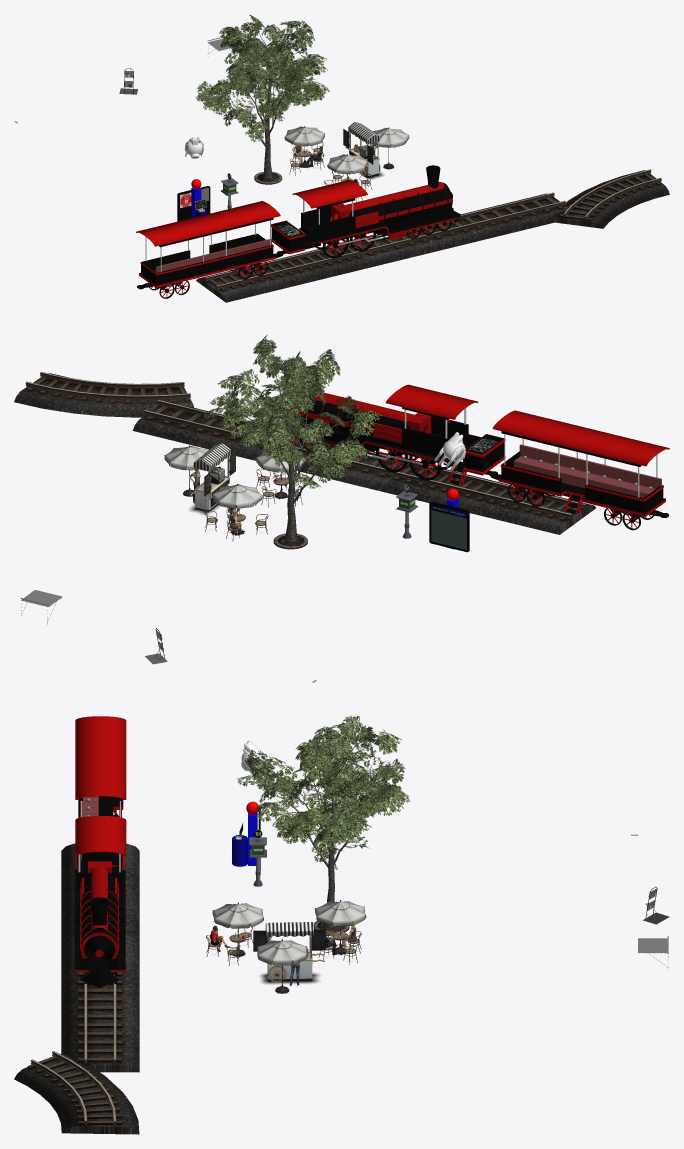
The picture shows the model from 3 angles, top to bottom: view 1: azimuth 30°, elevation 25°; view 2: azimuth 150°, elevation 25°; view 3: azimuth 270°, elevation 25°; orthographic projection. The views are drawn at different scales.
Parts seen in each view (by area): view 1: Train Engine v1.2, CP Young Oak Tree 3, Train Passenger Car v1.2, TRACKSTRAIGHT16 Rail, TRACKSTRAIGHT32 Rail, Train TRACKCURVE 01 prim, Apple Fall Cafe Chair (×3), Young Oak Tree 3 Animated; view 2: CP Young Oak Tree 3, Train Passenger Car v1.2, Train Engine v1.2, TRACKSTRAIGHT32 Rail, TRACKSTRAIGHT16 Rail, Train TRACKCURVE 01 prim, Apple Fall Cafe Chair (×2), Young Oak Tree 3 Animated, COFFEE CART-MESH (×2), Visitor Board 5.0 frame linked; view 3: CP Young Oak Tree 3, Train Engine v1.2, TRACKSTRAIGHT16 Rail, Train TRACKCURVE 01 prim, Train Passenger Car v1.2, Apple Fall Cafe Chair (×3), TRACKSTRAIGHT32 Rail, COFFEE CART-MESH (×2), Young Oak Tree 3 Animated.
Part boxes in pixels (x1,y1,x2,y2): Train Engine v1.2: (271,165,461,258); CP Young Oak Tree 3: (195,15,329,142); Train Passenger Car v1.2: (136,201,282,298); TRACKSTRAIGHT16 Rail: (350,192,568,267); TRACKSTRAIGHT32 Rail: (196,243,370,302); Train TRACKCURVE 01 prim: (551,169,669,228); Apple Fall Cafe Chair (×3): (284,126,409,174); Young Oak Tree 3 Animated: (225,29,312,178); CP Young Oak Tree 3: (203,334,382,492); Train Passenger Car v1.2: (490,410,669,530); Train Engine v1.2: (286,366,505,485); TRACKSTRAIGHT32 Rail: (382,462,595,534); TRACKSTRAIGHT16 Rail: (133,400,407,491); Train TRACKCURVE 01 prim: (14,372,194,417); Apple Fall Cafe Chair (×2): (164,445,262,508); Young Oak Tree 3 Animated: (230,356,357,542); COFFEE CART-MESH (×2): (193,443,230,509); Visitor Board 5.0 frame linked: (431,510,466,549); CP Young Oak Tree 3: (237,716,410,869); Train Engine v1.2: (74,815,126,987); TRACKSTRAIGHT16 Rail: (61,936,139,1072); Train TRACKCURVE 01 prim: (14,1051,139,1134); Train Passenger Car v1.2: (75,716,126,817); Apple Fall Cafe Chair (×3): (212,901,366,965); TRACKSTRAIGHT32 Rail: (61,843,139,942); COFFEE CART-MESH (×2): (265,922,313,979); Young Oak Tree 3 Animated: (256,733,386,927).
Size of what is drawn, in the model's own units: 41.41 by 13.09 by 34.79.
131 materials, 106 textured.
